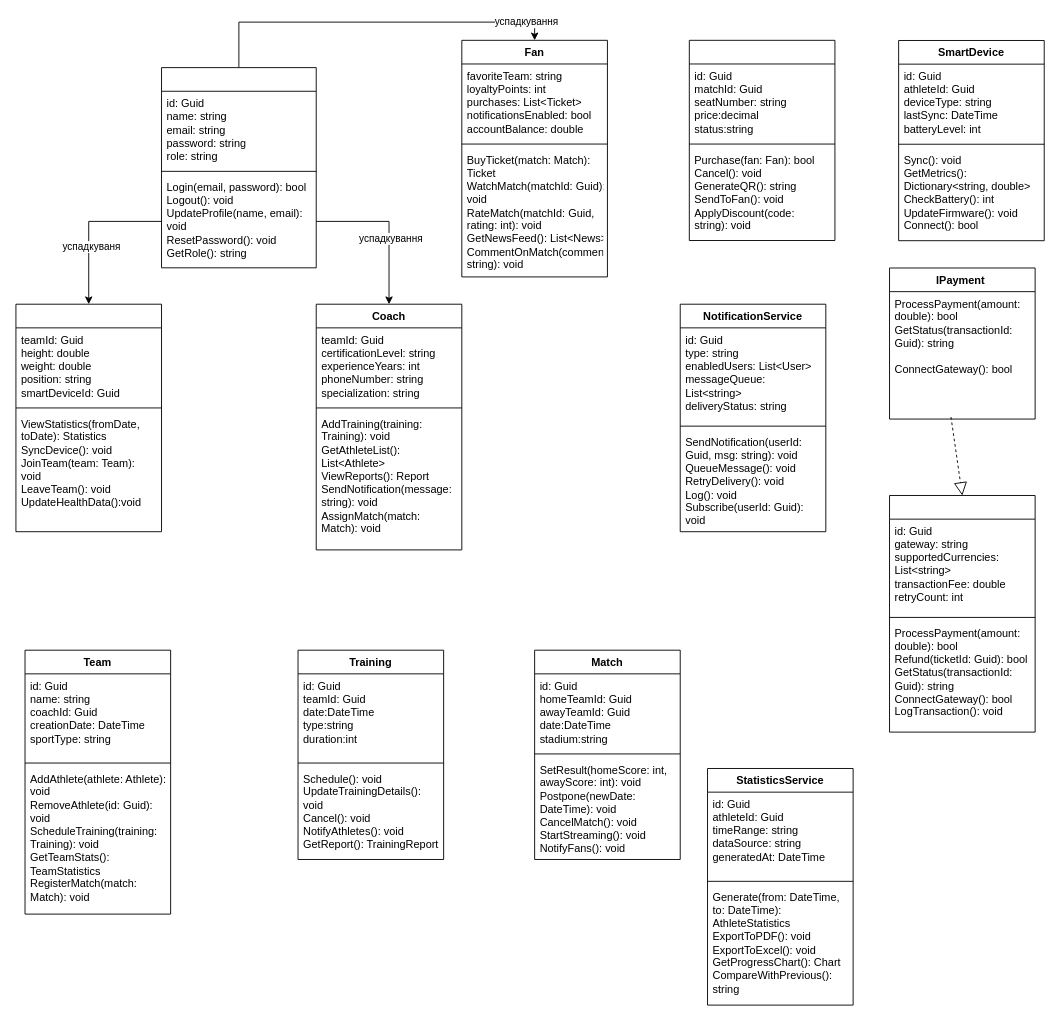
The diagram is 1060 pixels wide and 1024 high, and some of its shapes have lost their labels. The shapes that lost their labels are listed below. From the top down, each one's box as (x1, y1, x2, y2) in pixels, then its label:
(688, 39, 835, 241): Ticket
(161, 67, 316, 268): User
(15, 303, 162, 532): Athlete
(889, 495, 1035, 732): PaymentProcessor
